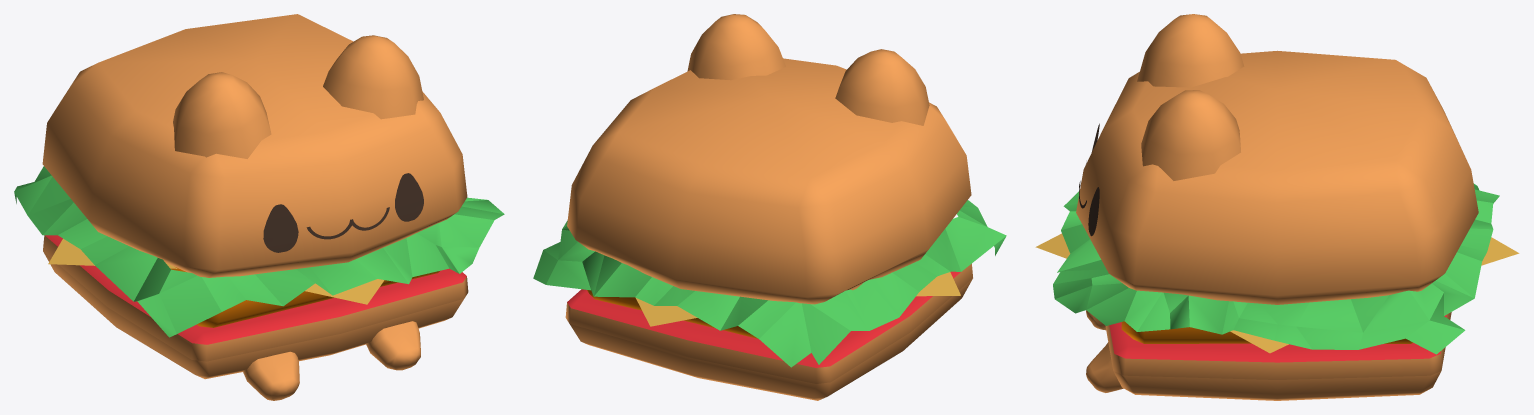
File: SM_Cat_Burger_01.fbx
3 renders of one model, left to right at view 1: azimuth 30°, elevation 25°; view 2: azimuth 150°, elevation 25°; view 3: azimuth 270°, elevation 25°, orthographic. The views are drawn at different scales.
Visible parts, largest first — view 1: SM_Collectible_02; view 2: SM_Collectible_02; view 3: SM_Collectible_02.
Boxes of the visible parts, <box> form: SM_Collectible_02: <box>14,14,504,400</box>; SM_Collectible_02: <box>533,14,1006,400</box>; SM_Collectible_02: <box>1035,14,1519,400</box>.
Bounding box in the file's own units: 128 × 89.43 × 128.
